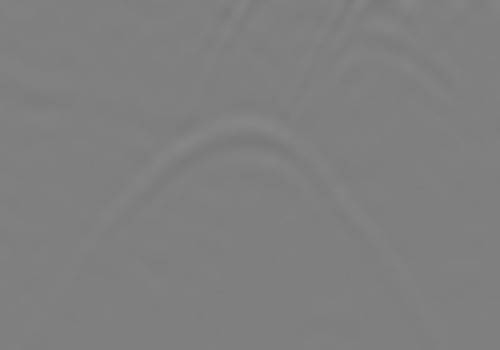hyperbola: (80, 117, 413, 330)
